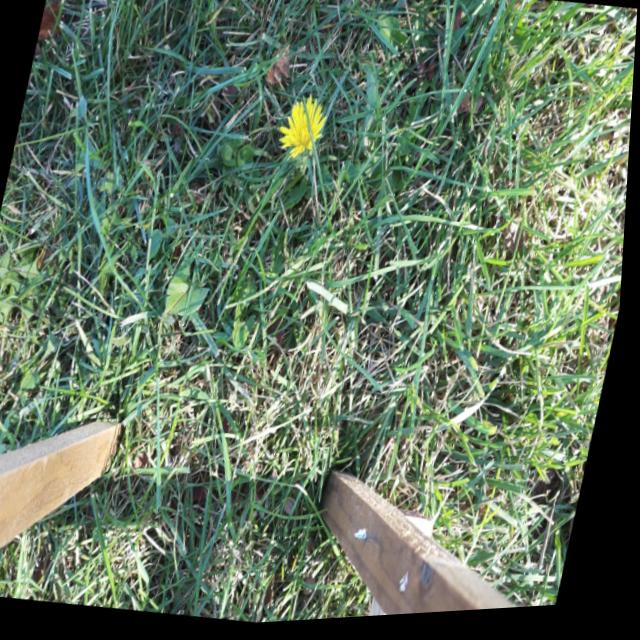base: (270, 182, 291, 211)
